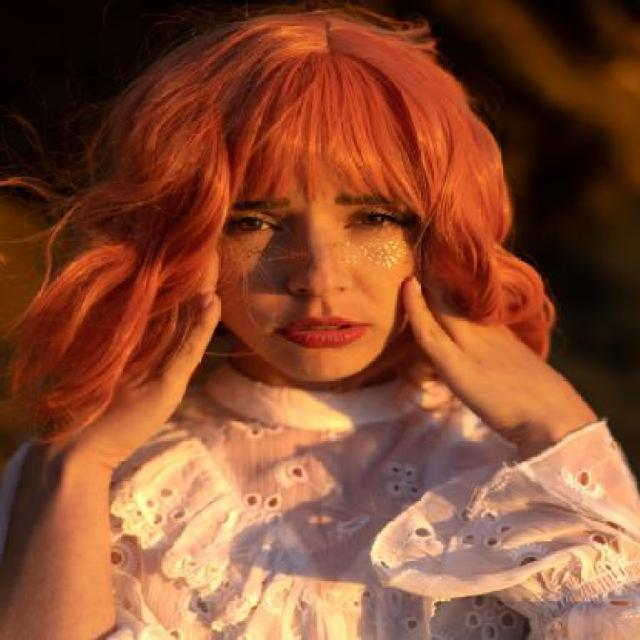closed-mouth: (272, 314, 370, 346)
